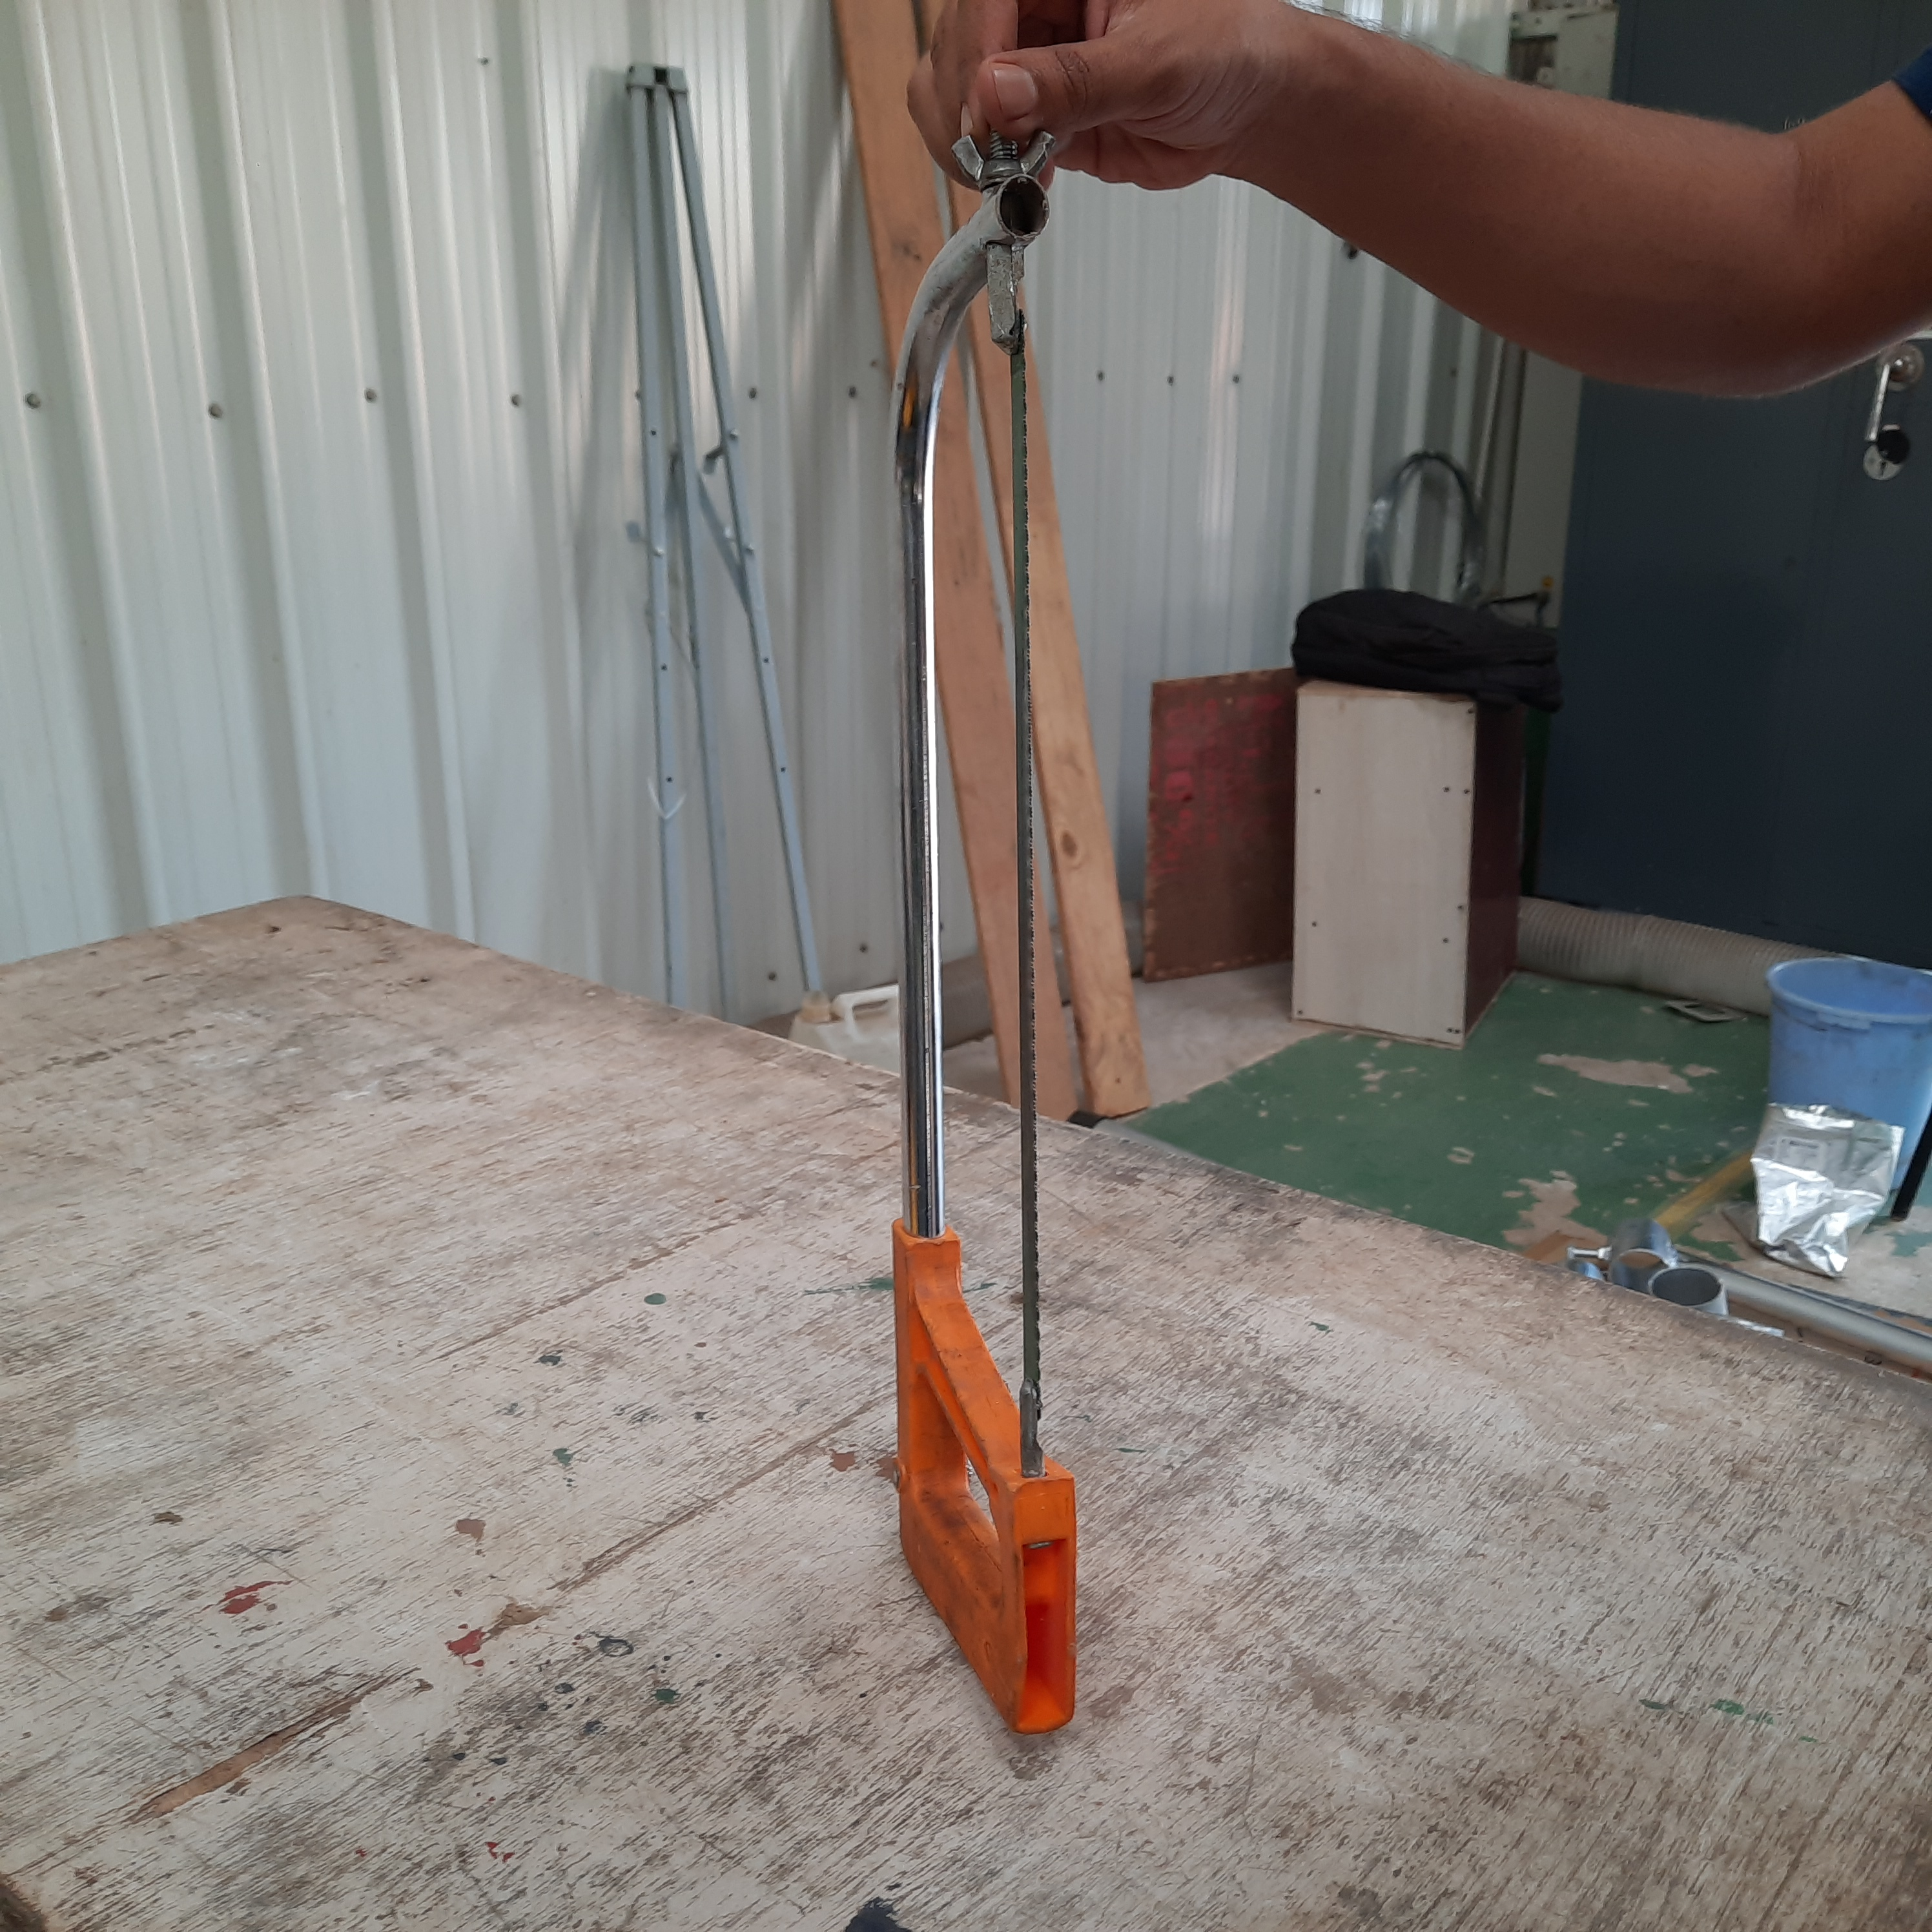Hexaframe: (810, 115, 1136, 1755)
